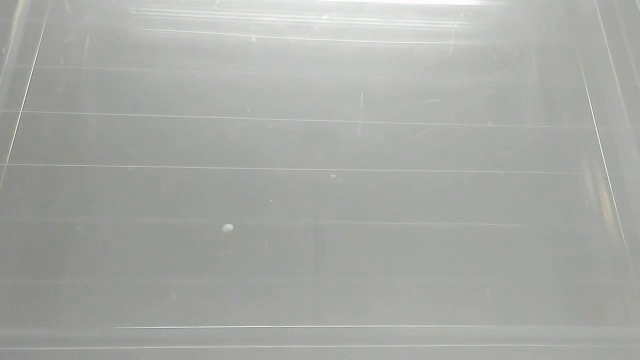alpha: (217, 219, 242, 235)
